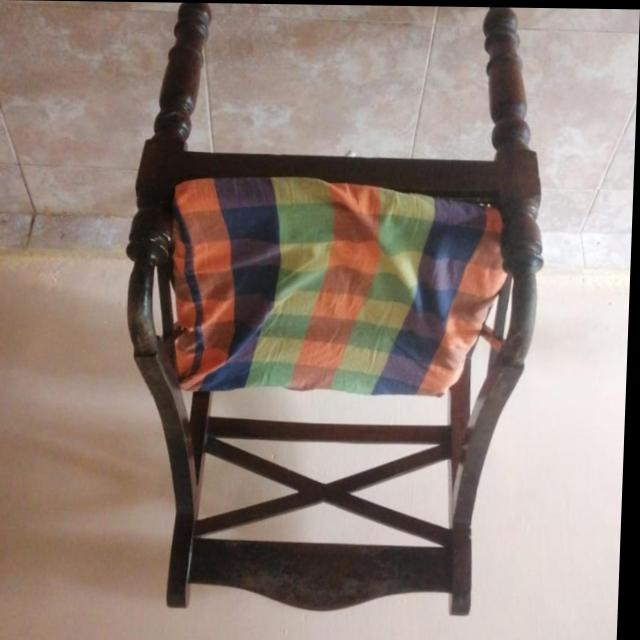Chair: (115, 2, 546, 616)
